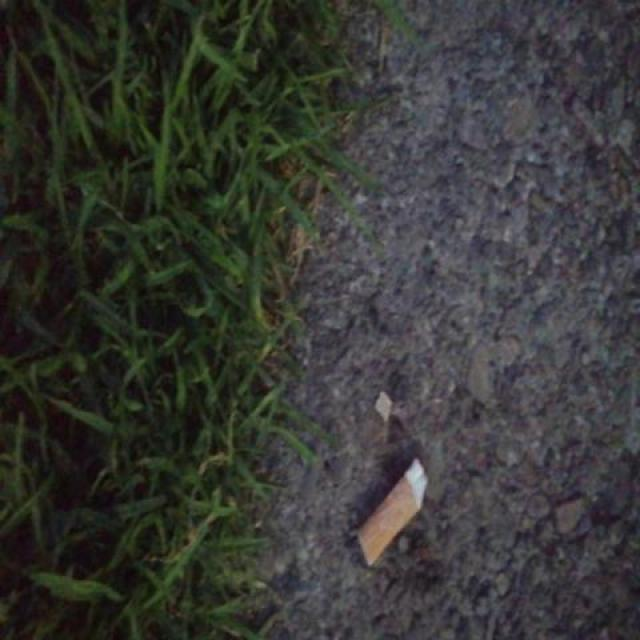non-organic waste: (352, 453, 432, 578)
